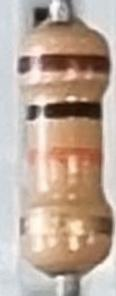Black: (26, 100, 101, 125)
Brown: (17, 54, 110, 77)
Orange: (24, 148, 102, 170)
Side-Silver: (18, 214, 114, 238)
